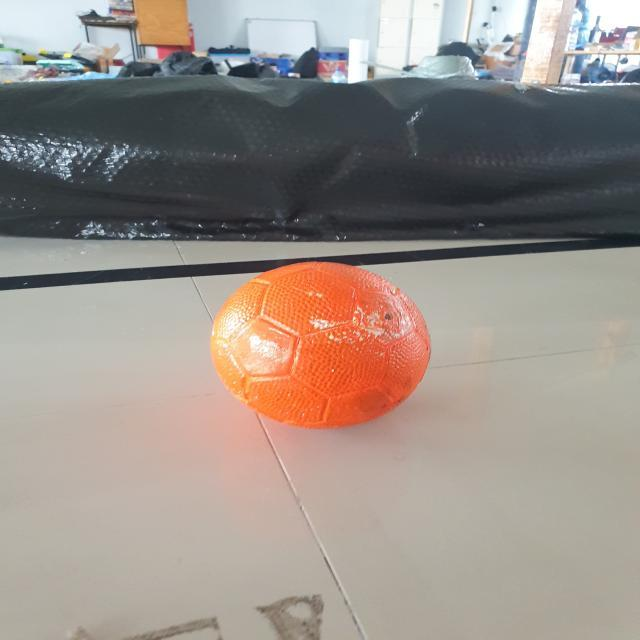bola: (214, 258, 436, 442)
